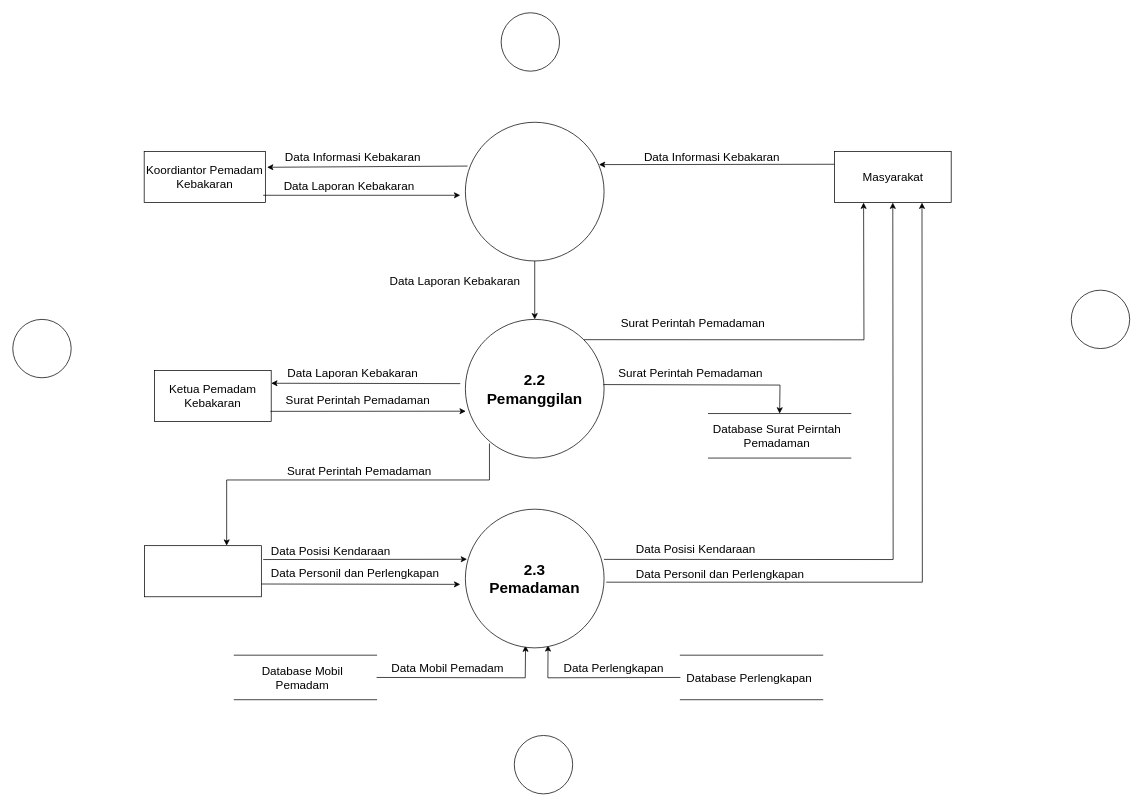
This 1142x807 diagram has some shape labels left out. The shapes that lost their labels are listed below. From the top down, each one's centre as x and y in pixels, then its label:
At pixel 534 191: "2.1 Pelaporan".
At pixel 202 571: "Personil Pemadam Kebakaran".
